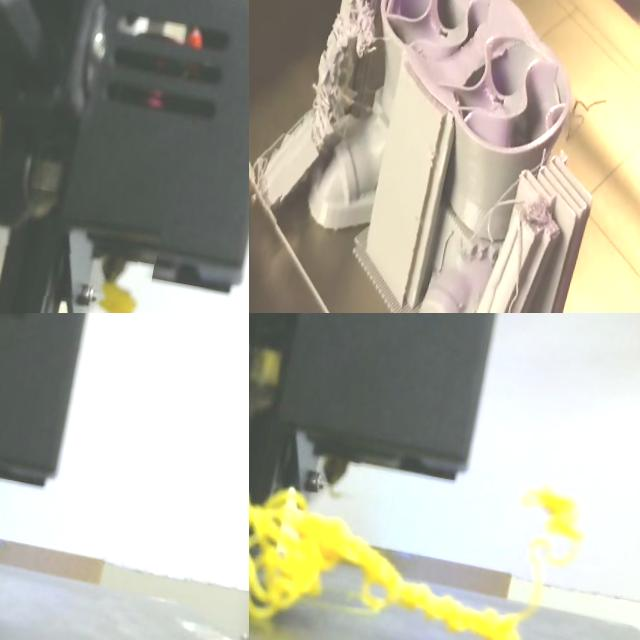spaghetti: (249, 487, 583, 640), (431, 167, 568, 313), (249, 118, 293, 280), (557, 86, 604, 165), (342, 0, 389, 62)
